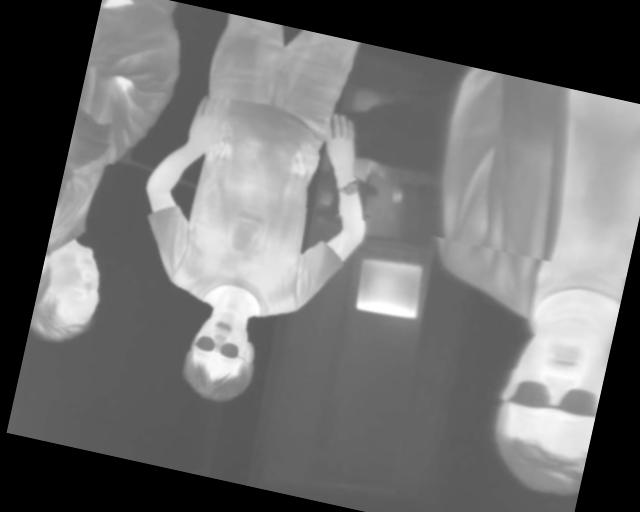face: (479, 309, 614, 501), (177, 302, 264, 409)
